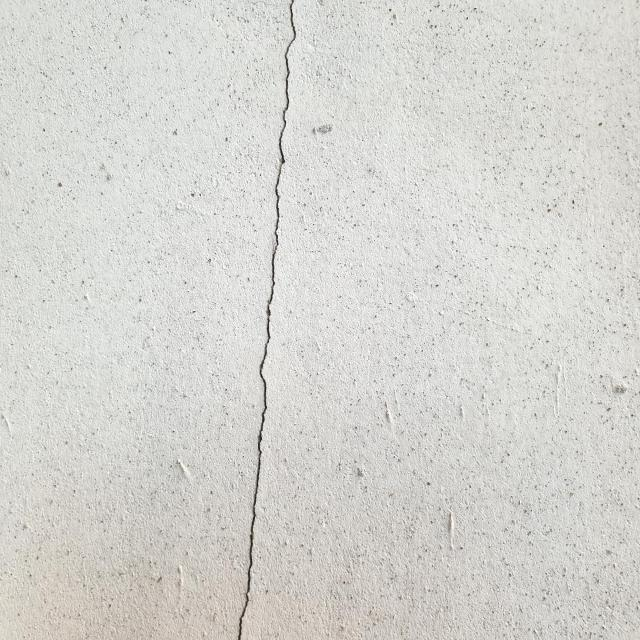SurfaceCrack: (200, 1, 337, 639)
